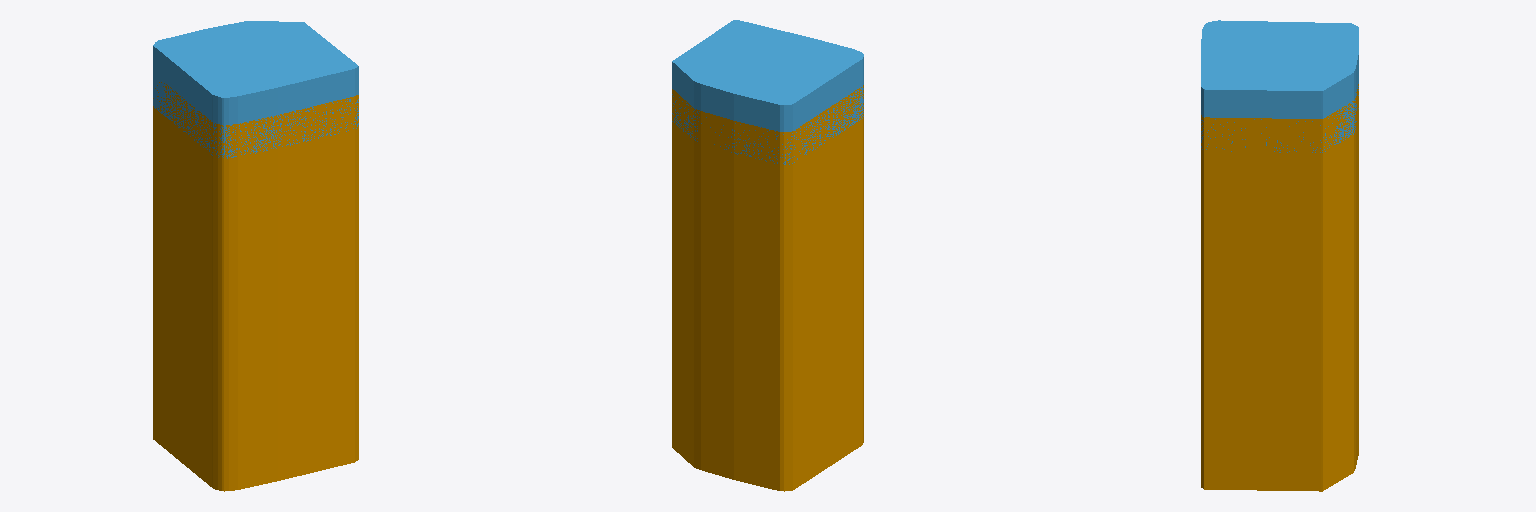
URDF robot description (drink_yykx_articulated):
<?xml version="1.0"?>
<robot name="drink_yykx_articulated">
  <link name="body_link">
    <inertial>
      <origin xyz="0 0 0" rpy="0 0 0"/>
      <mass value="0.520000"/>
      <inertia ixx="0.00146385" ixy="0" ixz="0" iyy="0.00148580" iyz="0" izz="0.00040271"/>
    </inertial>
    <visual>
      <origin xyz="0 0 0" rpy="0 0 0"/>
      <geometry><mesh filename="drink_yykx_body.obj" scale="1 1 1"/></geometry>
    </visual>
    <collision>
      <origin xyz="0 0 0" rpy="0 0 0"/>
      <geometry><mesh filename="drink_yykx_body_collision.obj" scale="1 1 1"/></geometry>
    </collision>
  </link>
  <link name="cap_link">
    <inertial>
      <origin xyz="0 0 0" rpy="0 0 0"/>
      <mass value="0.030000"/>
      <inertia ixx="0.00001302" ixy="0" ixz="0" iyy="0.00001429" iyz="0" izz="0.00002323"/>
    </inertial>
    <visual>
      <origin xyz="0 0 0" rpy="0 0 0"/>
      <geometry><mesh filename="drink_yykx_cap.obj" scale="1 1 1"/></geometry>
    </visual>
    <collision>
      <origin xyz="0 0 0" rpy="0 0 0"/>
      <geometry><mesh filename="drink_yykx_cap_collision.obj" scale="1 1 1"/></geometry>
    </collision>
  </link>
  <joint name="cap_joint" type="revolute">
    <parent link="body_link"/>
    <child link="cap_link"/>
    <origin xyz="0.000000 0.000000 0.084286" rpy="0 0 0"/>
    <axis xyz="0 0 1"/>
    <limit lower="-6.283" upper="6.283" effort="5" velocity="0.5"/>
    <dynamics damping="3.0" friction="1.5"/>
  </joint>
</robot>

--- Facts derived from the render (not from the file) ---
The picture shows the robot from 3 angles, left to right: view 1: azimuth 30°, elevation 25°; view 2: azimuth 150°, elevation 25°; view 3: azimuth 270°, elevation 25°; orthographic projection.
Model drink_yykx_articulated with 2 links and 1 joints (1 revolute), rooted at body_link, posed all joints at 0.
Visible links, largest first — view 1: body_link, cap_link; view 2: body_link, cap_link; view 3: body_link, cap_link.
Boxes of the visible links, box(x1,y1,x2,y2) form: body_link: box(153, 82, 358, 491); cap_link: box(153, 21, 358, 158); body_link: box(672, 85, 863, 491); cap_link: box(672, 20, 863, 164); body_link: box(1201, 84, 1358, 491); cap_link: box(1201, 20, 1358, 152).
Size in the robot's own frame: 0.07 by 0.0663 by 0.1843 metres.
2 mesh visuals loaded from 2 distinct referenced files (2 OBJ).
